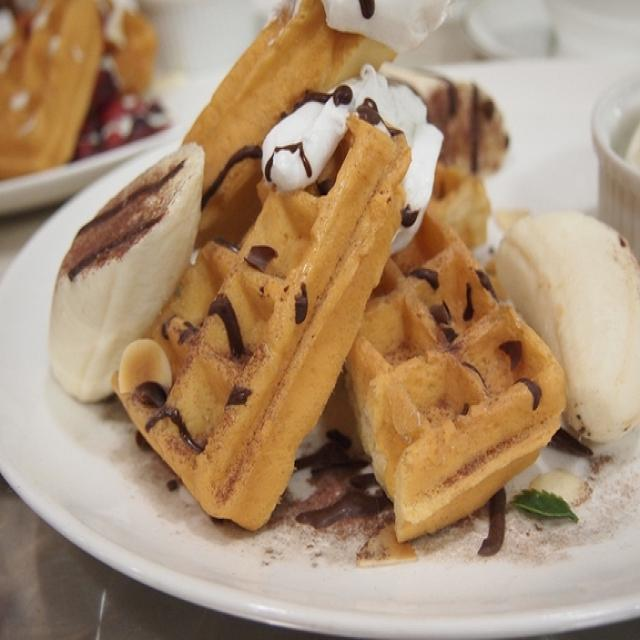炸货点心: (11, 11, 621, 592)
蛋糕甜品: (11, 11, 621, 592)
